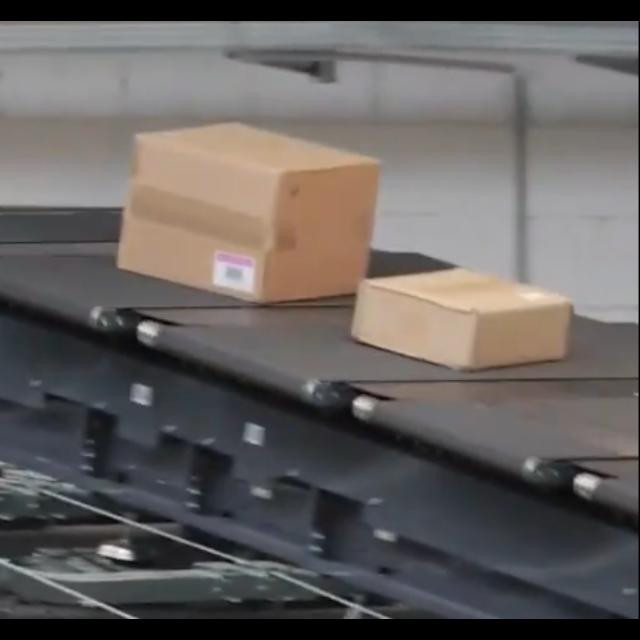mailer: (113, 122, 375, 304), (351, 267, 573, 367)
